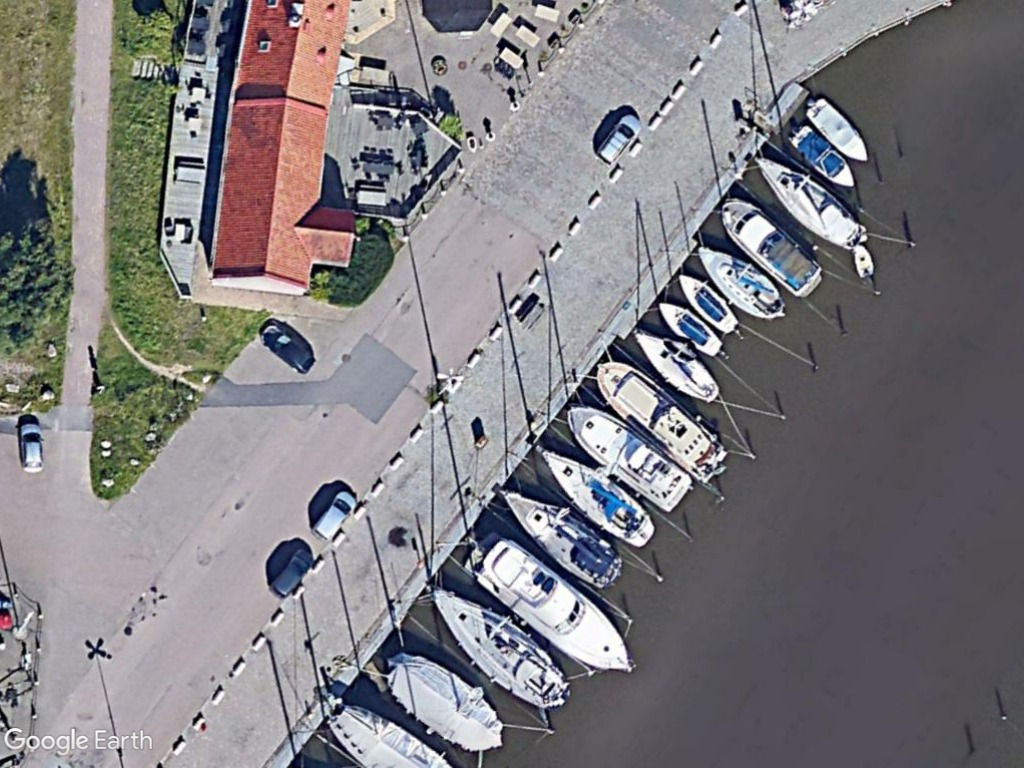boat: (474, 534, 642, 684), (424, 577, 575, 715), (592, 355, 733, 487), (563, 401, 697, 515), (494, 482, 628, 596), (531, 440, 660, 552), (386, 646, 510, 758), (718, 188, 826, 302), (750, 151, 871, 248), (692, 238, 792, 326), (628, 323, 726, 405), (785, 121, 860, 194), (805, 90, 874, 167), (653, 297, 727, 361), (674, 268, 740, 335), (849, 242, 876, 285)
car: (592, 106, 644, 165), (260, 324, 316, 378), (264, 545, 319, 599), (16, 418, 46, 477)
van: (310, 484, 360, 545)
